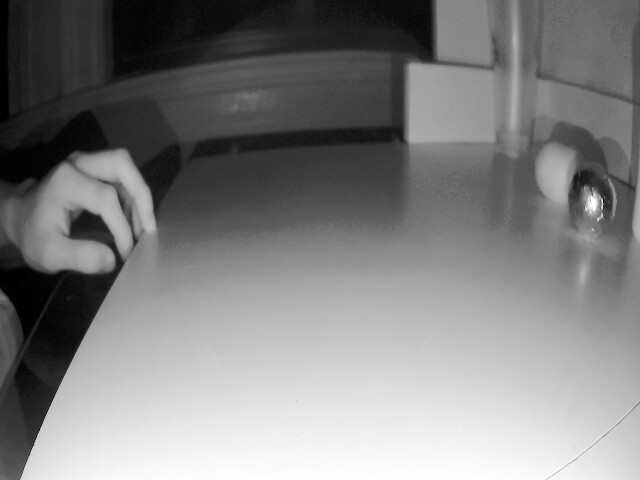silver: (565, 165, 618, 244)
